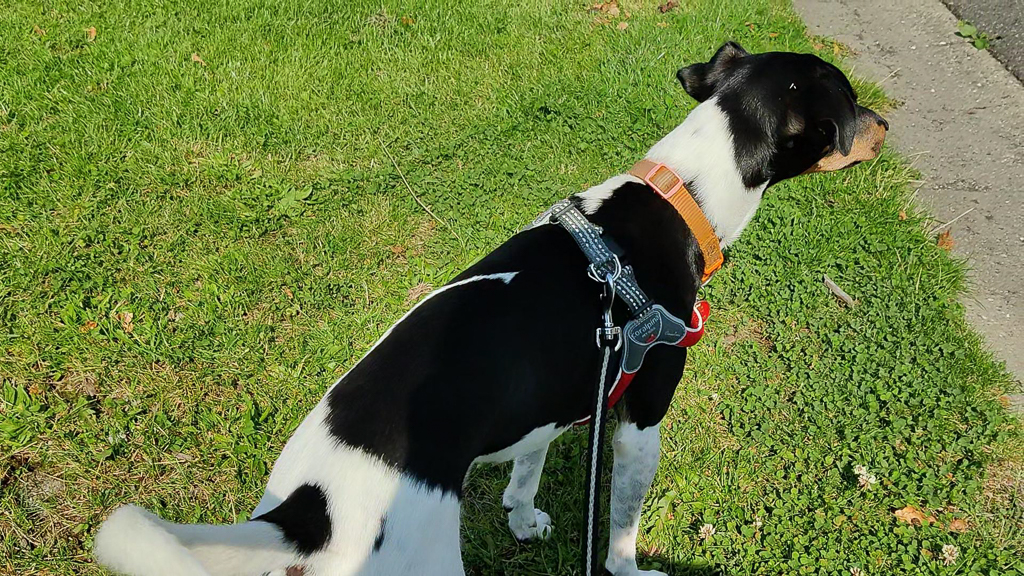Dog: (84, 35, 899, 576)
